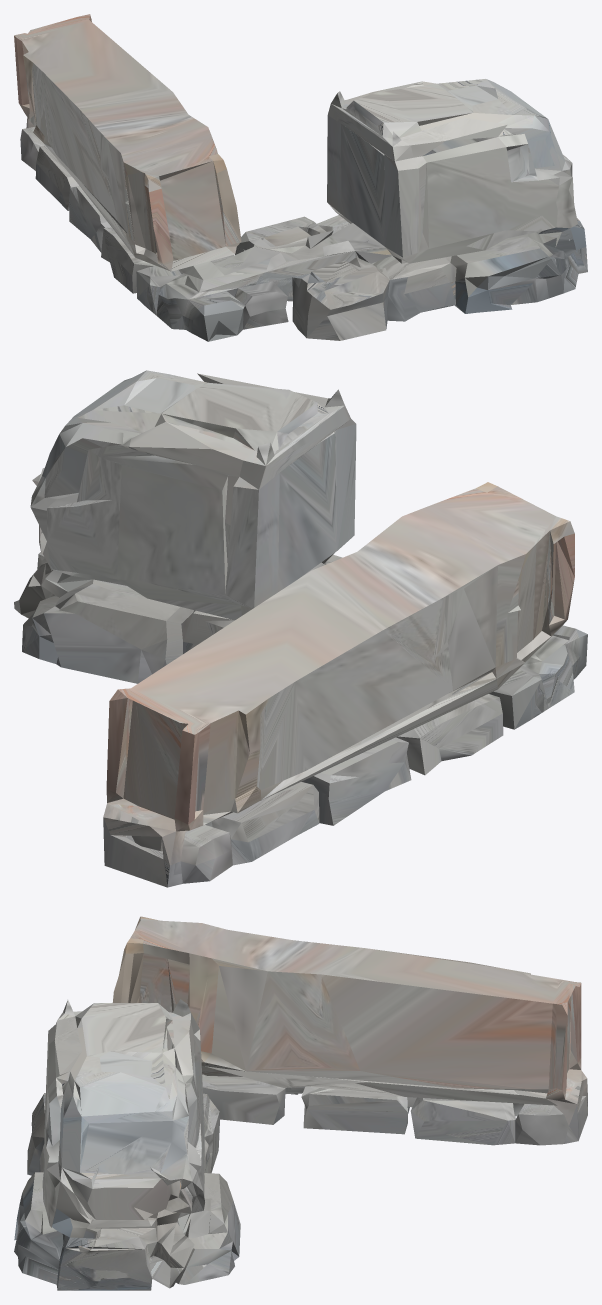
3 renders of one model, top to bottom at view 1: azimuth 30°, elevation 25°; view 2: azimuth 150°, elevation 25°; view 3: azimuth 270°, elevation 25°, orthographic. The views are drawn at different scales.
Visible parts, largest first — view 1: k06; view 2: k06; view 3: k06.
Boxes of the visible parts, box(x1,y1,x2,y2) form: k06: box(14, 14, 587, 341); k06: box(14, 370, 587, 887); k06: box(14, 916, 587, 1290).
Size of the model in its own units: 16.73 by 7.27 by 19.35.
Materials: 1 (1 with a texture image).
